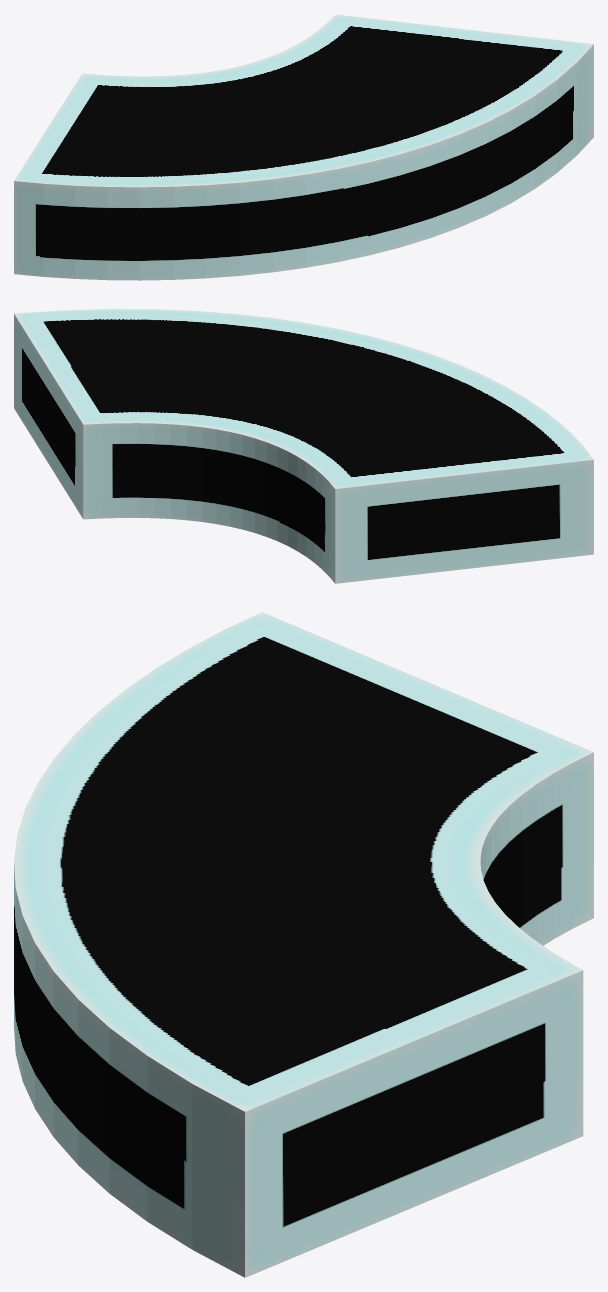
The model's file is SegmentumPacificus.obj.
3 renders of one model, top to bottom at view 1: azimuth 30°, elevation 25°; view 2: azimuth 150°, elevation 25°; view 3: azimuth 270°, elevation 25°, orthographic. The views are drawn at different scales.
Visible parts, largest first — view 1: SegmentumPacificus; view 2: SegmentumPacificus; view 3: SegmentumPacificus.
Boxes of the visible parts, x1=… form: SegmentumPacificus: x1=14, y1=14, x2=593, y2=280; SegmentumPacificus: x1=14, y1=309, x2=593, y2=583; SegmentumPacificus: x1=14, y1=612, x2=593, y2=1277.
Size of the model in its own units: 3.88 by 0.6 by 1.9.
Materials: 1 (1 with a texture image).
